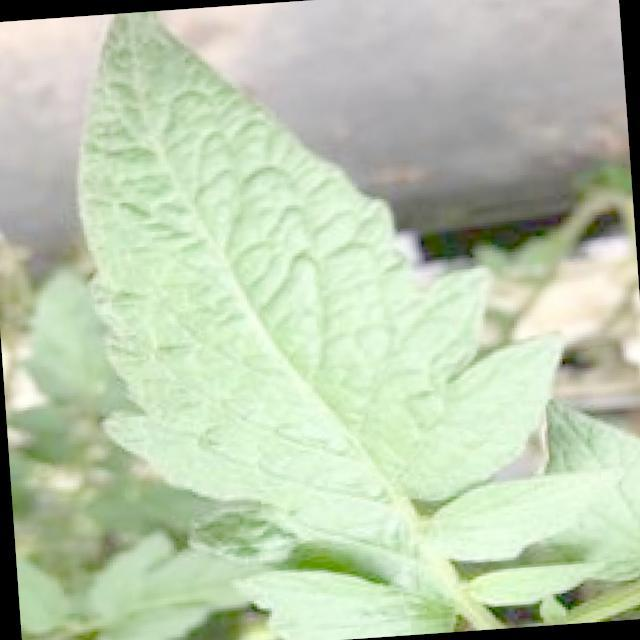Tomato healthy leaf: (74, 11, 615, 640)
